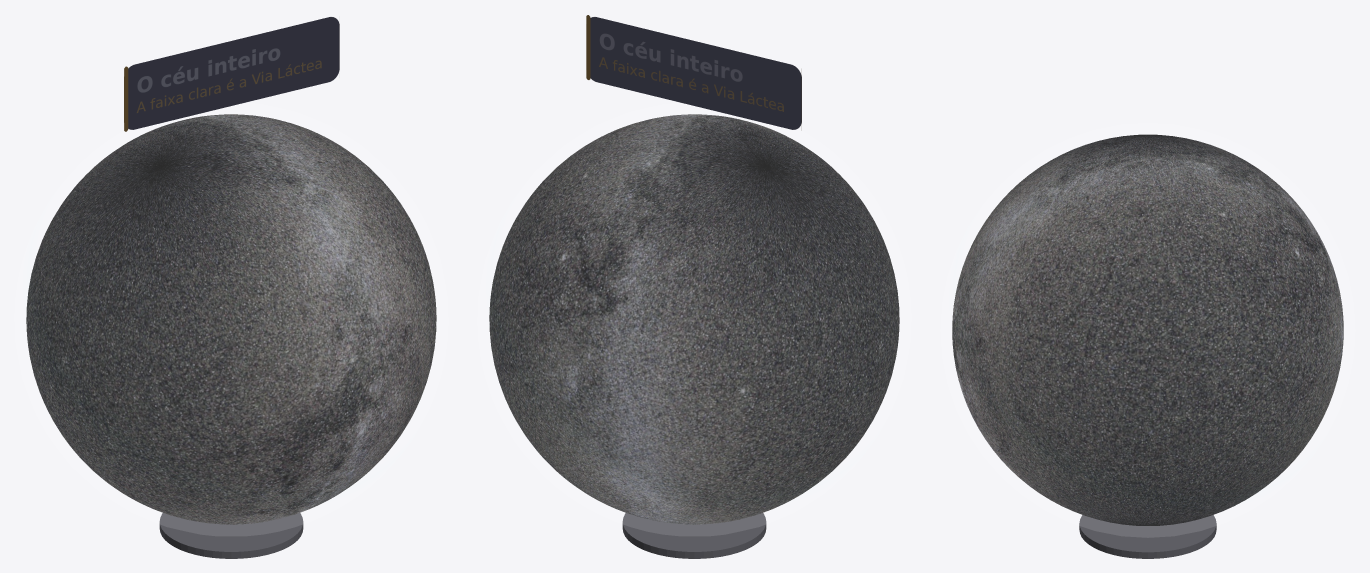
Rendered from ceu.glb.
3 views of the same model, side by side, from view 1: azimuth 30°, elevation 25°; view 2: azimuth 150°, elevation 25°; view 3: azimuth 270°, elevation 25° (orthographic). The views are drawn at different scales.
Parts seen in each view (by area): view 1: globo_celeste, cartao, base; view 2: globo_celeste, cartao, base; view 3: globo_celeste, base.
Part boxes in pixels (x1,y1,x2,y2): globo_celeste: (26, 114, 436, 524); cartao: (124, 17, 339, 131); base: (159, 513, 303, 558); globo_celeste: (489, 114, 899, 524); cartao: (586, 15, 801, 129); base: (622, 513, 766, 558); globo_celeste: (952, 134, 1343, 525); base: (1079, 515, 1216, 558).
Bounding box in the file's own units: 0.8479 × 1.05 × 0.848.
5 materials, 2 textured.
